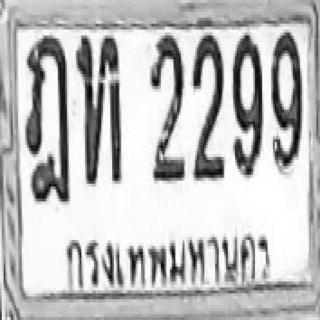A14: (23, 31, 69, 203)
A23: (76, 33, 121, 184)
N02: (149, 33, 183, 181), (192, 31, 224, 179)
N09: (270, 28, 302, 170), (231, 33, 262, 175)
P04: (55, 223, 276, 292)
